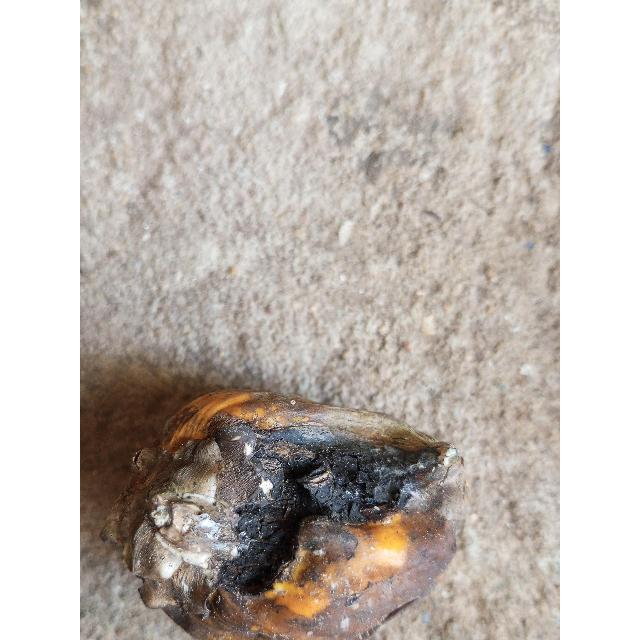damaged: (104, 391, 459, 640)
